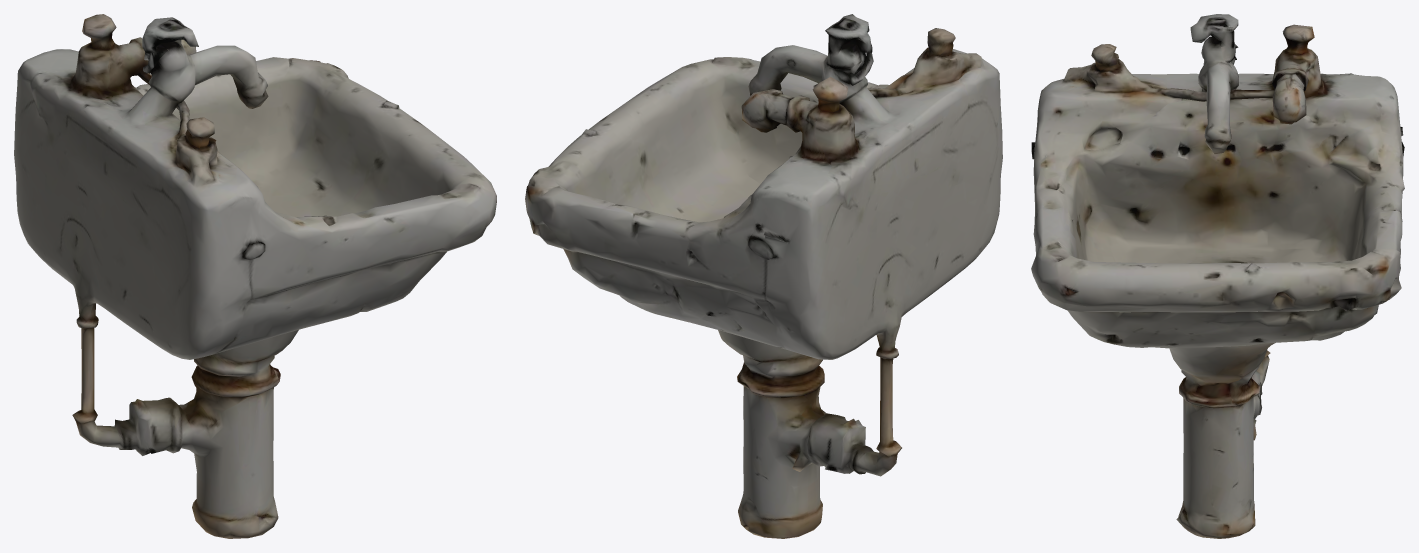
File: sink.glb
3 renders of one model, left to right at view 1: azimuth 30°, elevation 25°; view 2: azimuth 150°, elevation 25°; view 3: azimuth 270°, elevation 25°, orthographic. The views are drawn at different scales.
Parts seen in each view (by area): view 1: tripo_node_5b8990db-a29b-4bf5-bfa1-97935ef83ffe; view 2: tripo_node_5b8990db-a29b-4bf5-bfa1-97935ef83ffe; view 3: tripo_node_5b8990db-a29b-4bf5-bfa1-97935ef83ffe.
Part boxes in pixels (x1,y1,x2,y2): tripo_node_5b8990db-a29b-4bf5-bfa1-97935ef83ffe: (14, 14, 496, 538); tripo_node_5b8990db-a29b-4bf5-bfa1-97935ef83ffe: (525, 14, 1002, 538); tripo_node_5b8990db-a29b-4bf5-bfa1-97935ef83ffe: (1031, 14, 1404, 538).
Bounding box in the file's own units: 0.6648 × 1 × 0.7122.
1 material, 1 textured.
